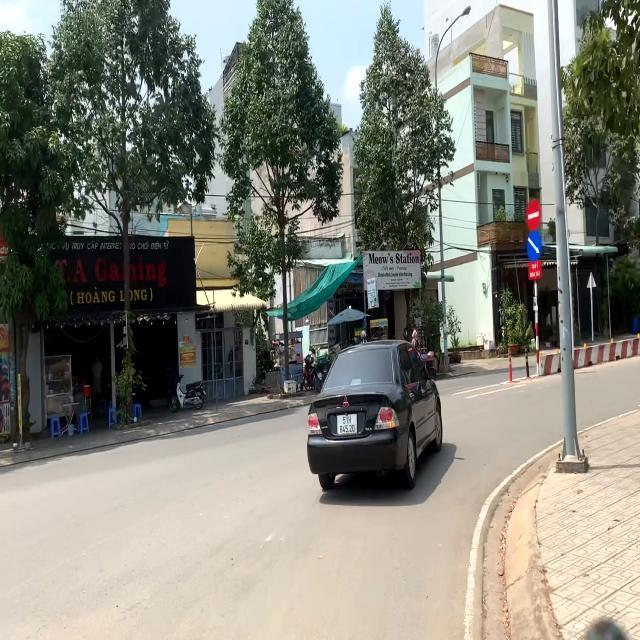Cam di nguoc chieu: (526, 198, 540, 232)
Vong chuong ngai vat sang phai: (526, 229, 542, 264)
